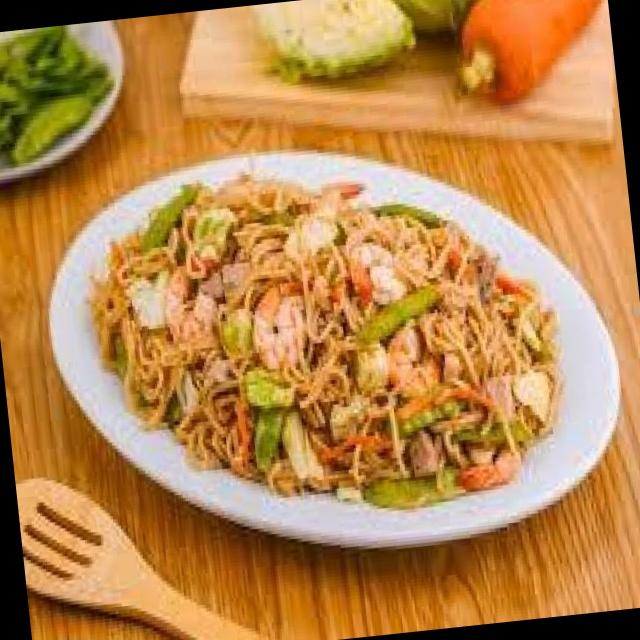pancit bihon: (94, 181, 557, 504)
